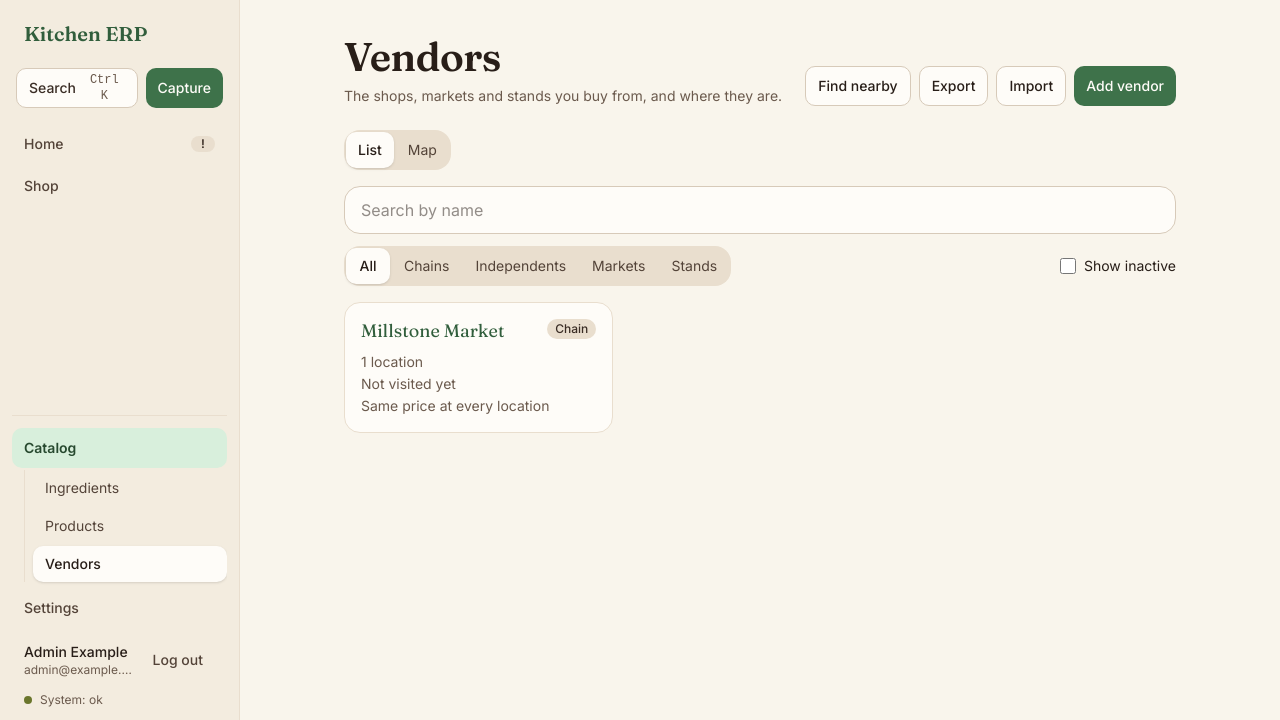
vendors › shows a quiet note when OpenStreetMap adoption is switched off
expect the list named "Vendors" is shown: met, box [344,302,613,433]
Step 1. Click the button "Find nearby" → (858, 86), box [805,66,911,106]
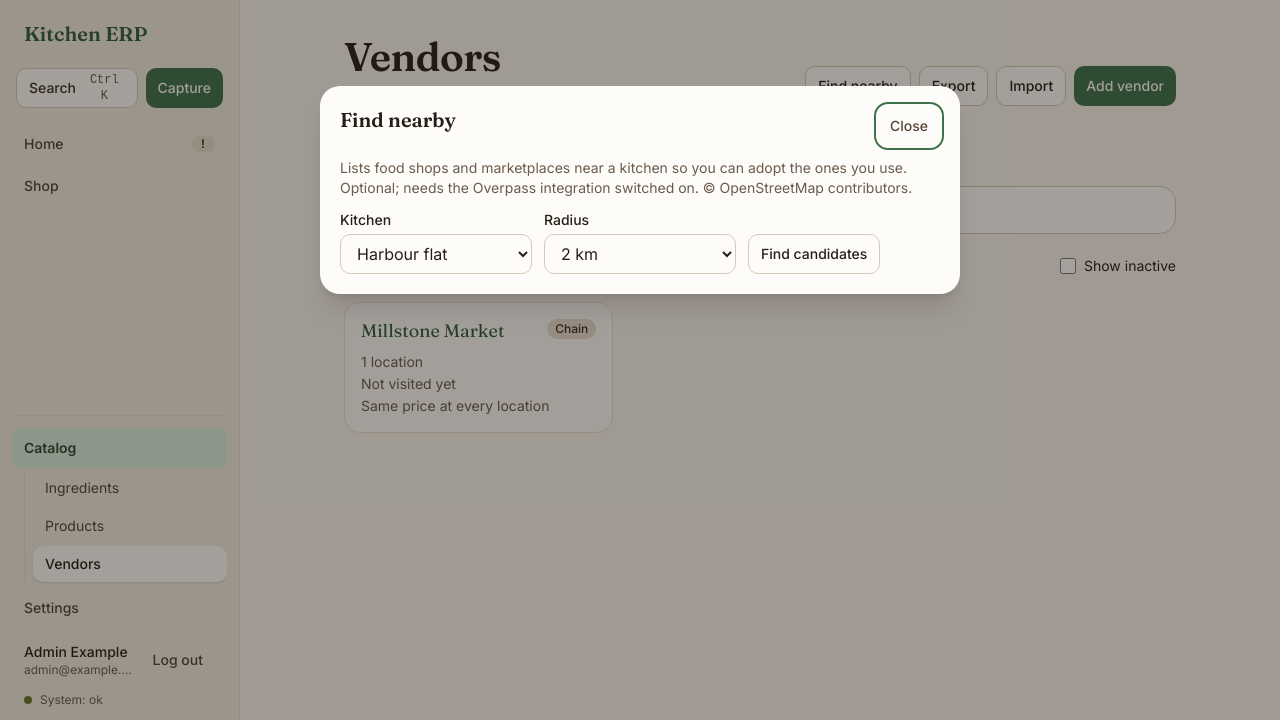
expect the dropdown labelled "Kitchen" shows "Harbour flat": met, box [340,234,532,274]
The only kitchen is chosen already (UI-3.8).
Step 2. Click the button "Find candidates" → (814, 254), box [748,234,880,274]
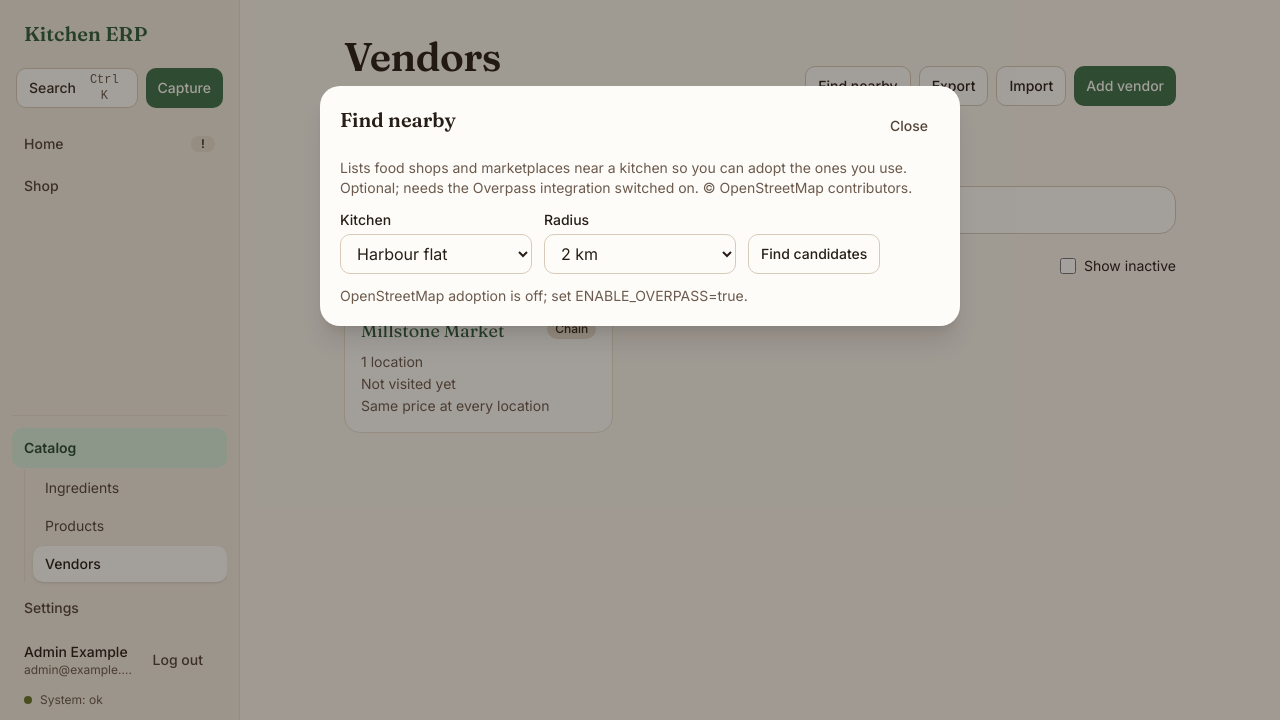
expect the text "OpenStreetMap adoption is off; set ENABLE_OVERPASS=true." is shown: met, box [340,287,748,304]
